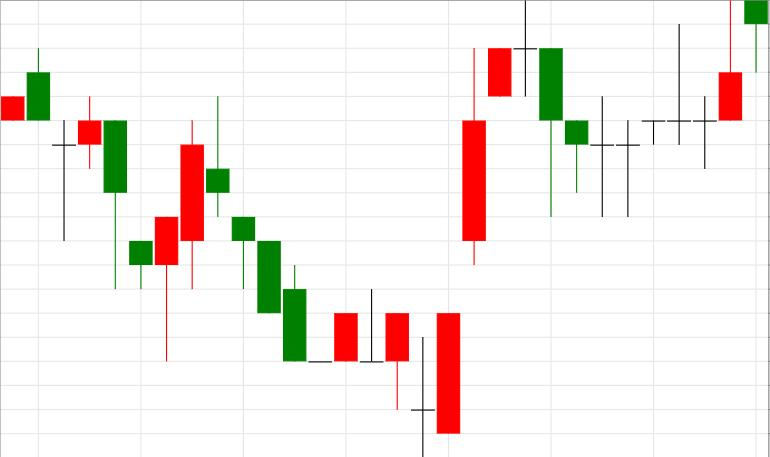evening_star_fall: (410, 2, 562, 456)
hammer_rise: (27, 49, 177, 362)
hanging_man_fall: (591, 0, 768, 216)
